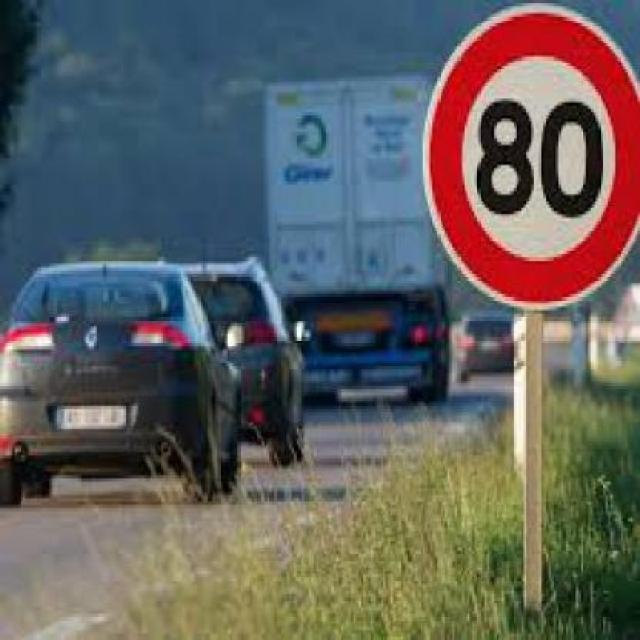forb_speed_over_80: (442, 30, 636, 304)
